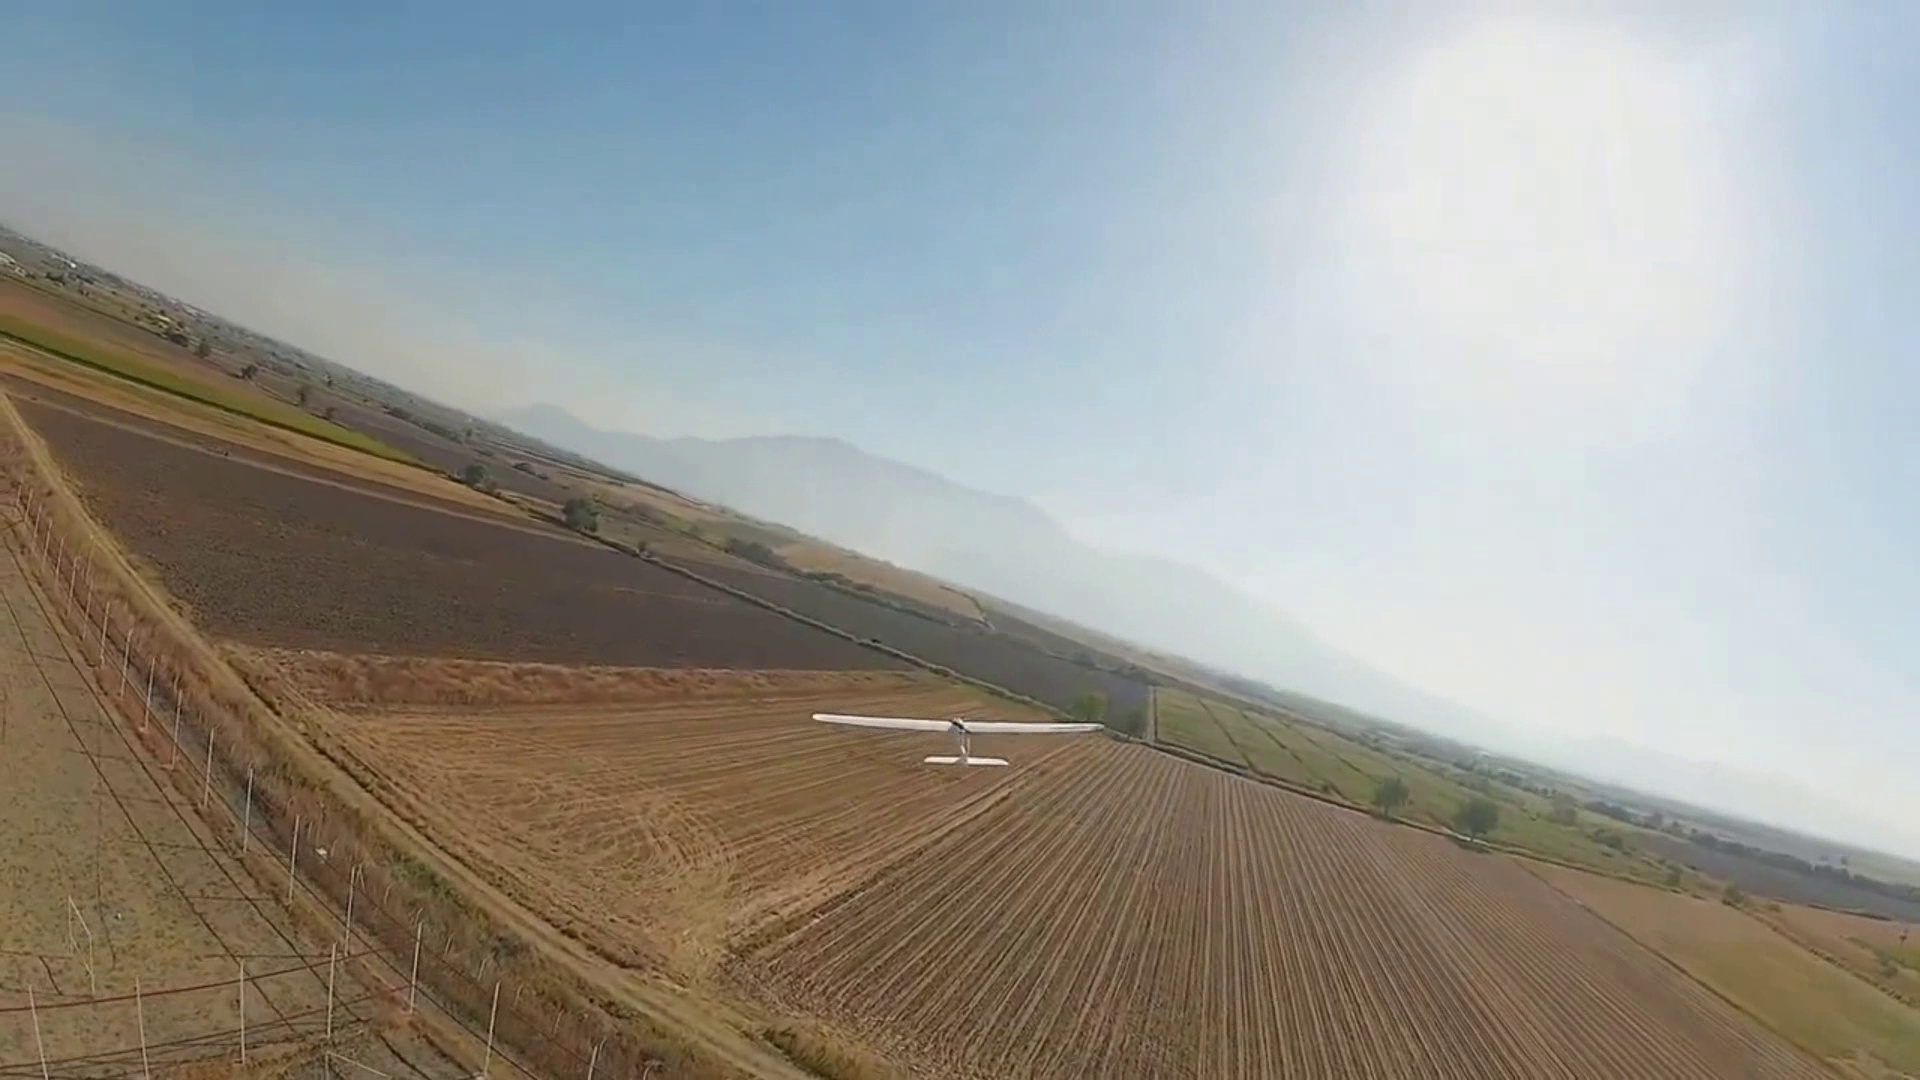airplane: (2, 213, 1914, 915)
